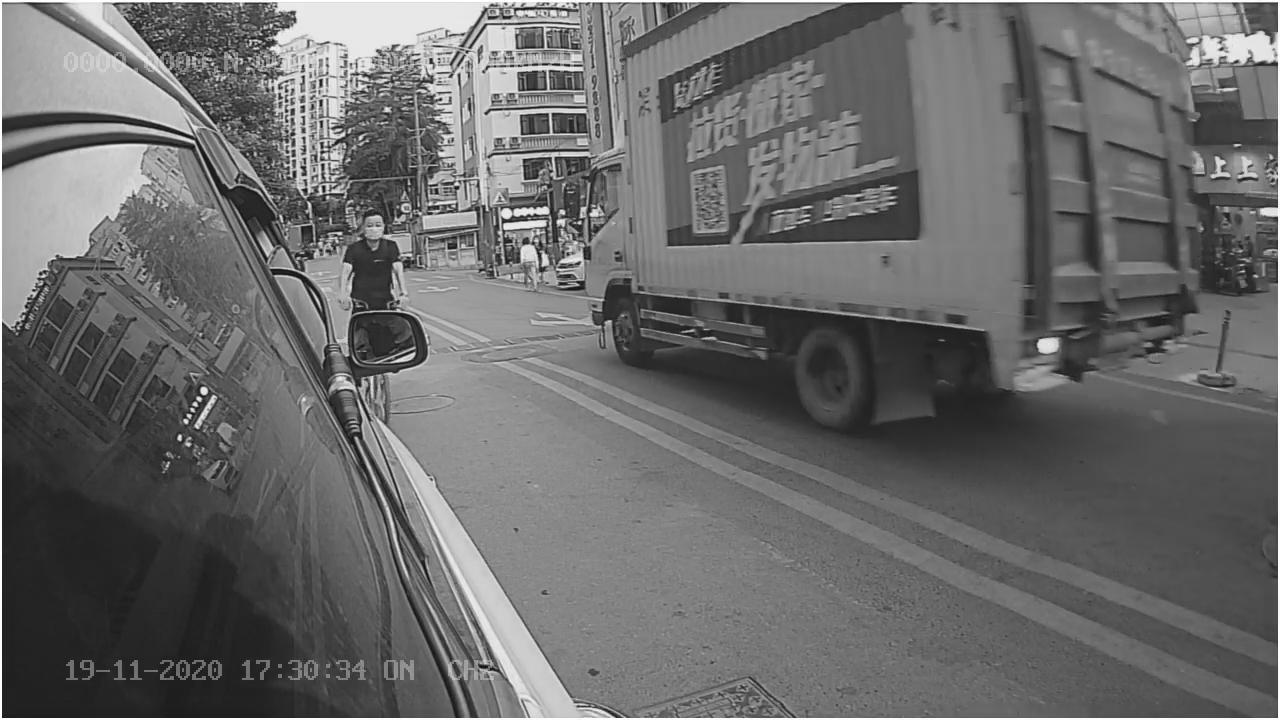person: (332, 205, 418, 305)
